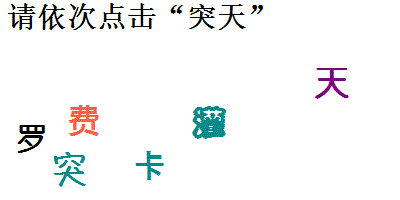text: (190, 104, 228, 140), (52, 150, 88, 187), (314, 65, 350, 101), (68, 103, 100, 138), (16, 123, 47, 155), (134, 149, 164, 181)
